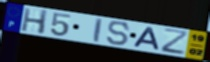5: (49, 12, 73, 37)
A: (132, 26, 161, 52)
H: (20, 7, 50, 36)
I: (93, 17, 104, 44)
S: (106, 20, 131, 47)
Z: (161, 28, 190, 57)
